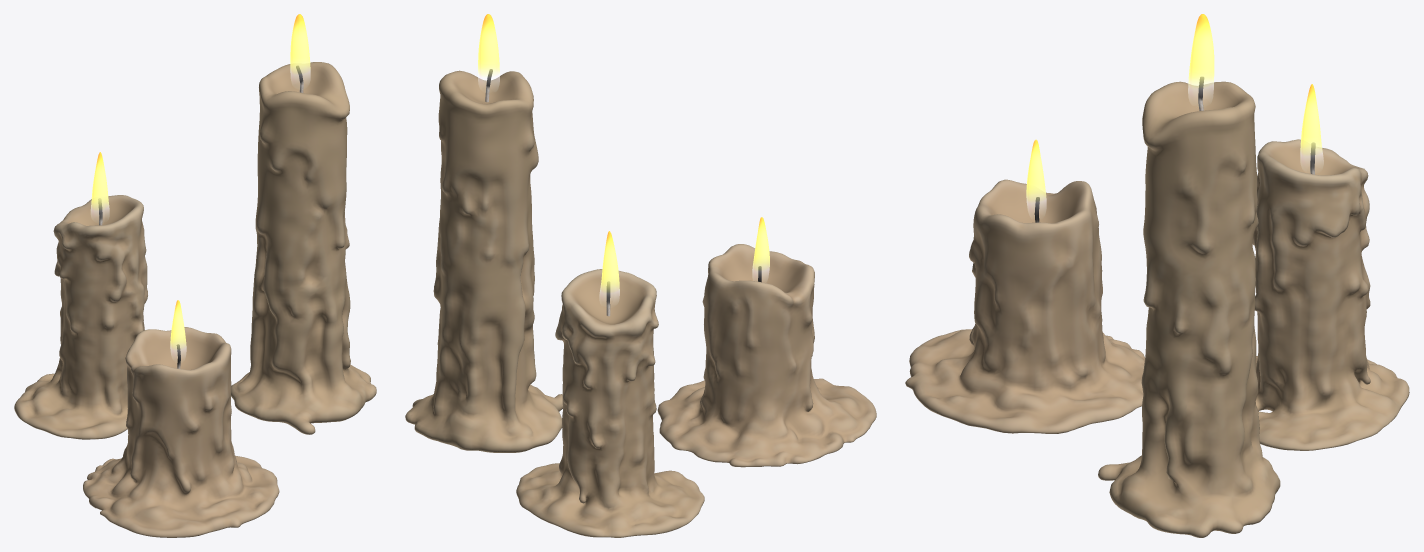
The picture shows the model from 3 angles, left to right: view 1: azimuth 30°, elevation 25°; view 2: azimuth 150°, elevation 25°; view 3: azimuth 270°, elevation 25°; orthographic projection. The views are drawn at different scales.
Visible parts, largest first — view 1: candle_1_0, candle_3_4, candle_2_2, Flame_1_8, Flame_2_7, Flame_3_6; view 2: candle_1_0, candle_3_4, candle_2_2, Flame_1_8, Flame_2_7, Flame_3_6; view 3: candle_1_0, candle_3_4, candle_2_2, Flame_1_8, Flame_2_7, Flame_3_6.
Boxes of the visible parts, x1,y1,x2,y2 form: candle_1_0: (231,62,376,434); candle_3_4: (83,327,279,537); candle_2_2: (14,195,147,439); Flame_1_8: (290,14,310,83); Flame_2_7: (91,152,109,218); Flame_3_6: (170,300,186,357); candle_1_0: (405,70,562,452); candle_3_4: (657,244,876,467); candle_2_2: (516,269,704,537); Flame_1_8: (478,14,499,87); Flame_2_7: (599,231,619,302); Flame_3_6: (752,217,769,280); candle_1_0: (1098,81,1280,537); candle_3_4: (905,179,1144,433); candle_2_2: (1252,139,1409,450); Flame_1_8: (1188,14,1214,100); Flame_2_7: (1300,84,1323,166); Flame_3_6: (1026,139,1046,214).
Bounding box in the file's own units: 0.2037 × 0.2199 × 0.2083.
4 materials, 4 textured.
